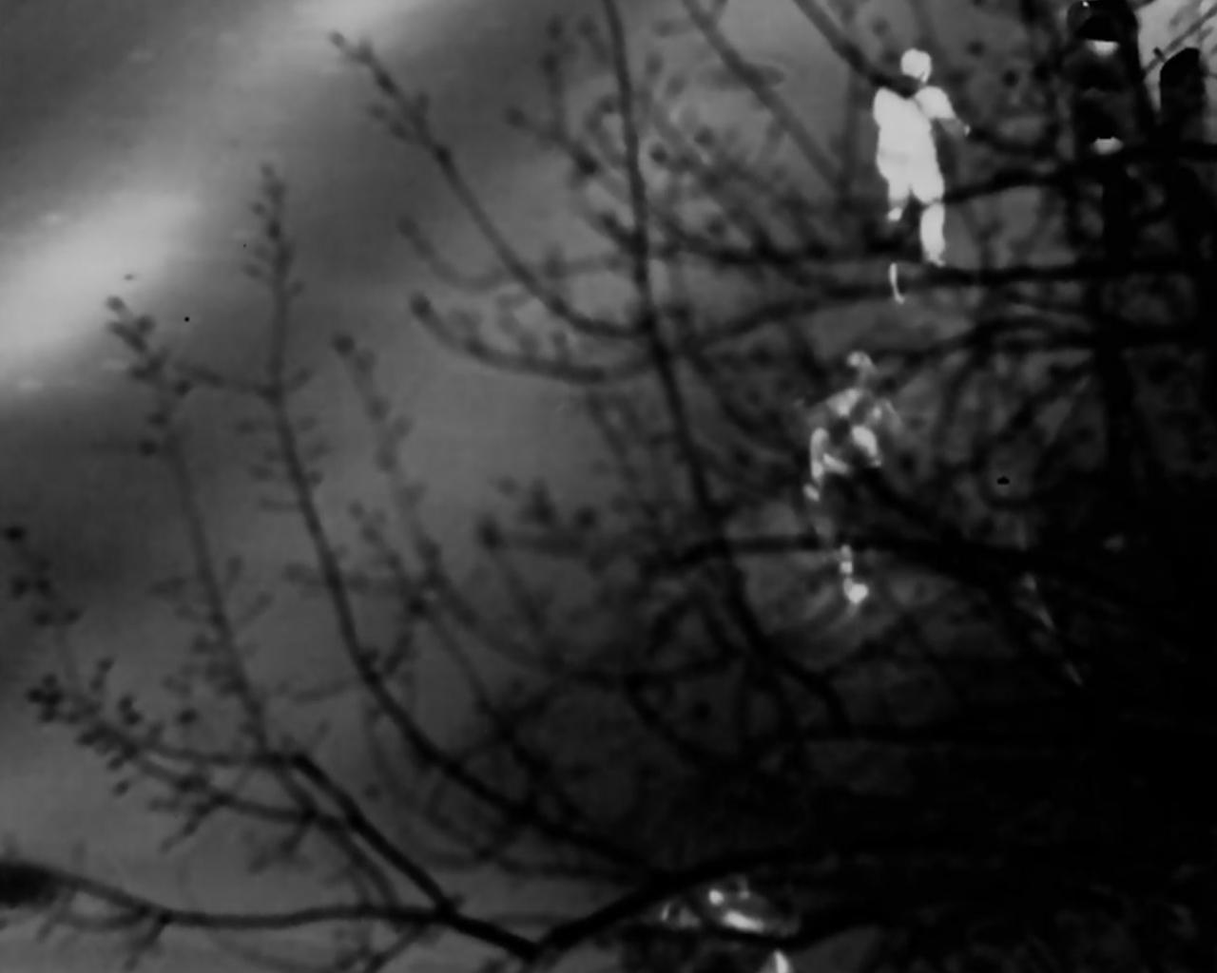person: (807, 354, 923, 602), (879, 42, 955, 302)
